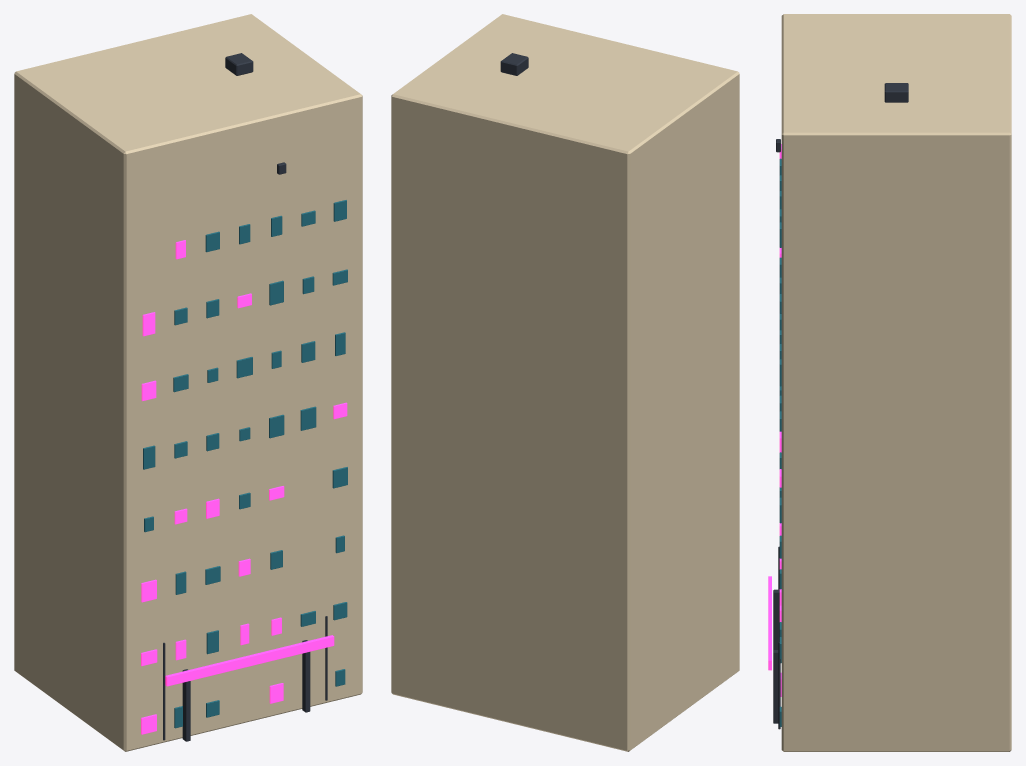
Rendered from building_004_seed100.glb.
3 views of the same model, side by side, from view 1: azimuth 30°, elevation 25°; view 2: azimuth 150°, elevation 25°; view 3: azimuth 270°, elevation 25° (orthographic). The views are drawn at different scales.
Parts seen in each view (by area): view 1: building_004_seed100; view 2: building_004_seed100; view 3: building_004_seed100.
Boxes of the visible parts, x1,y1,x2,y2 form: building_004_seed100: (14, 14, 362, 751); building_004_seed100: (391, 14, 739, 751); building_004_seed100: (768, 14, 1011, 751).
Size of the model in its own units: 10.78 by 26.38 by 9.22.
